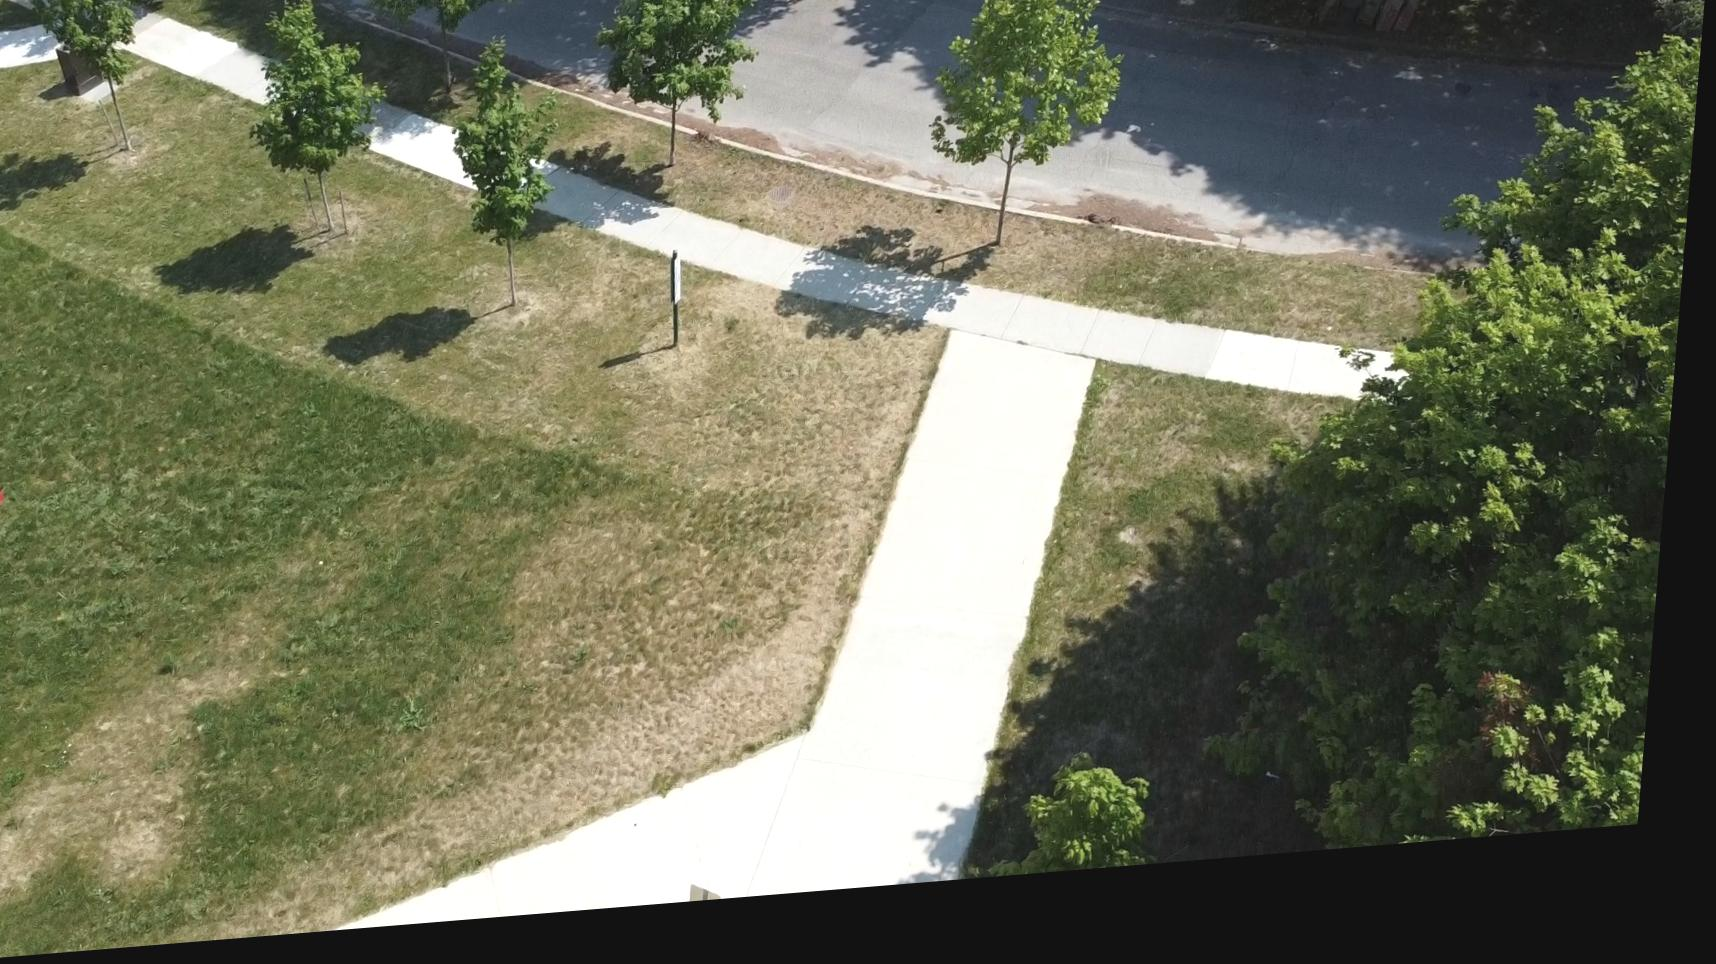Red: (0, 487, 13, 520)
